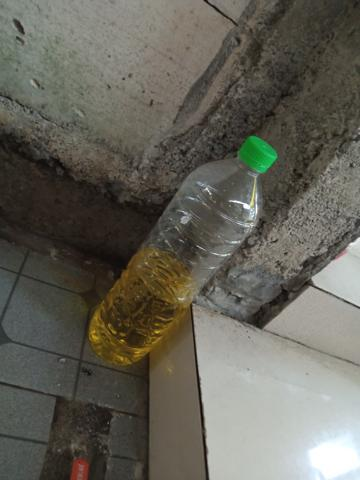botol_kaca: (80, 128, 286, 378)
